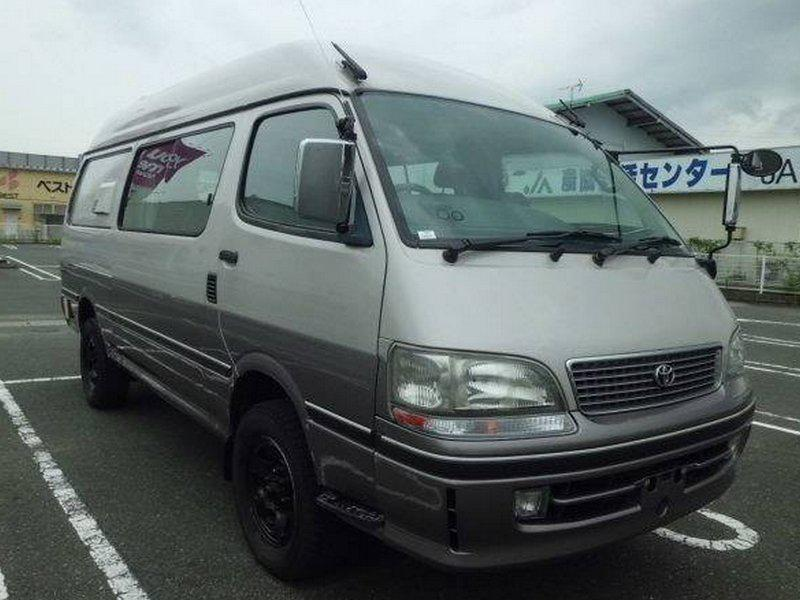Van: (46, 48, 770, 569)
